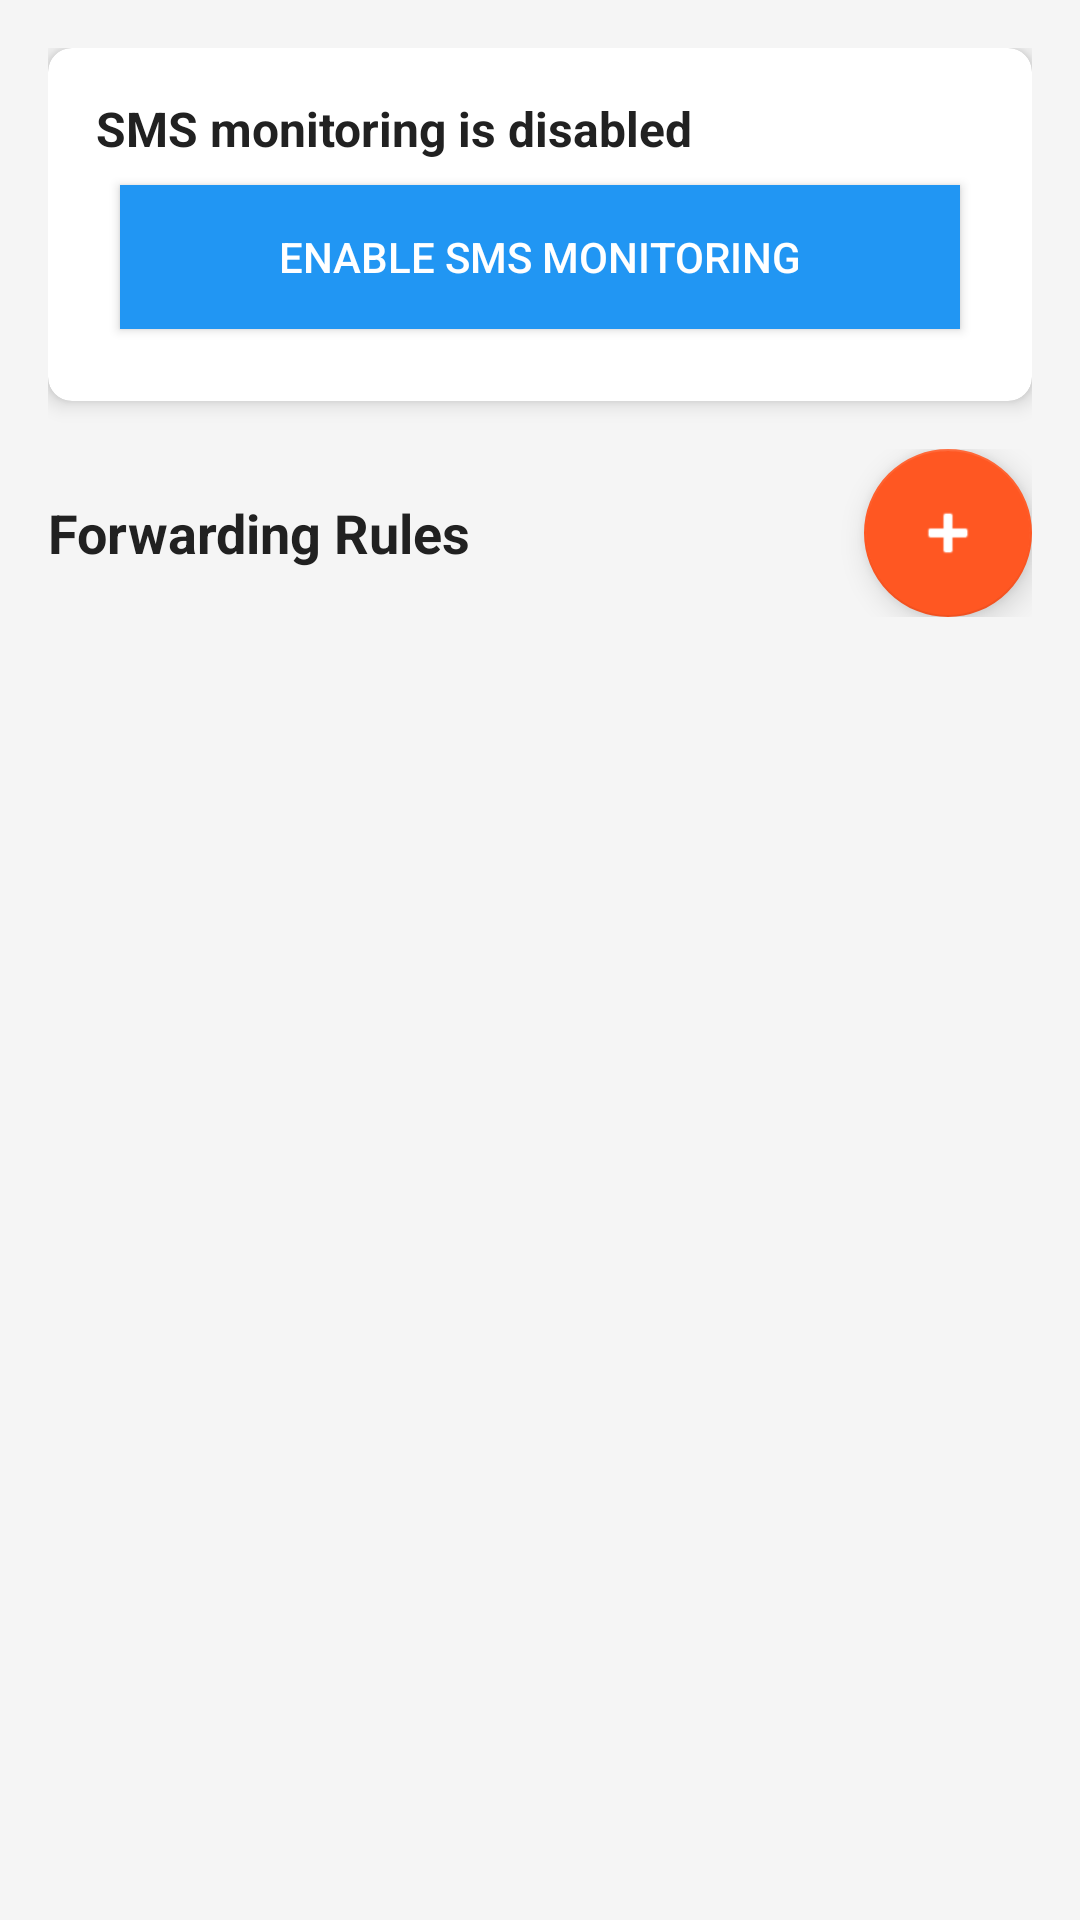

Icon click points for this 1080 x 1920 phone screenshot, format [x,y]:
add: [948,533]
